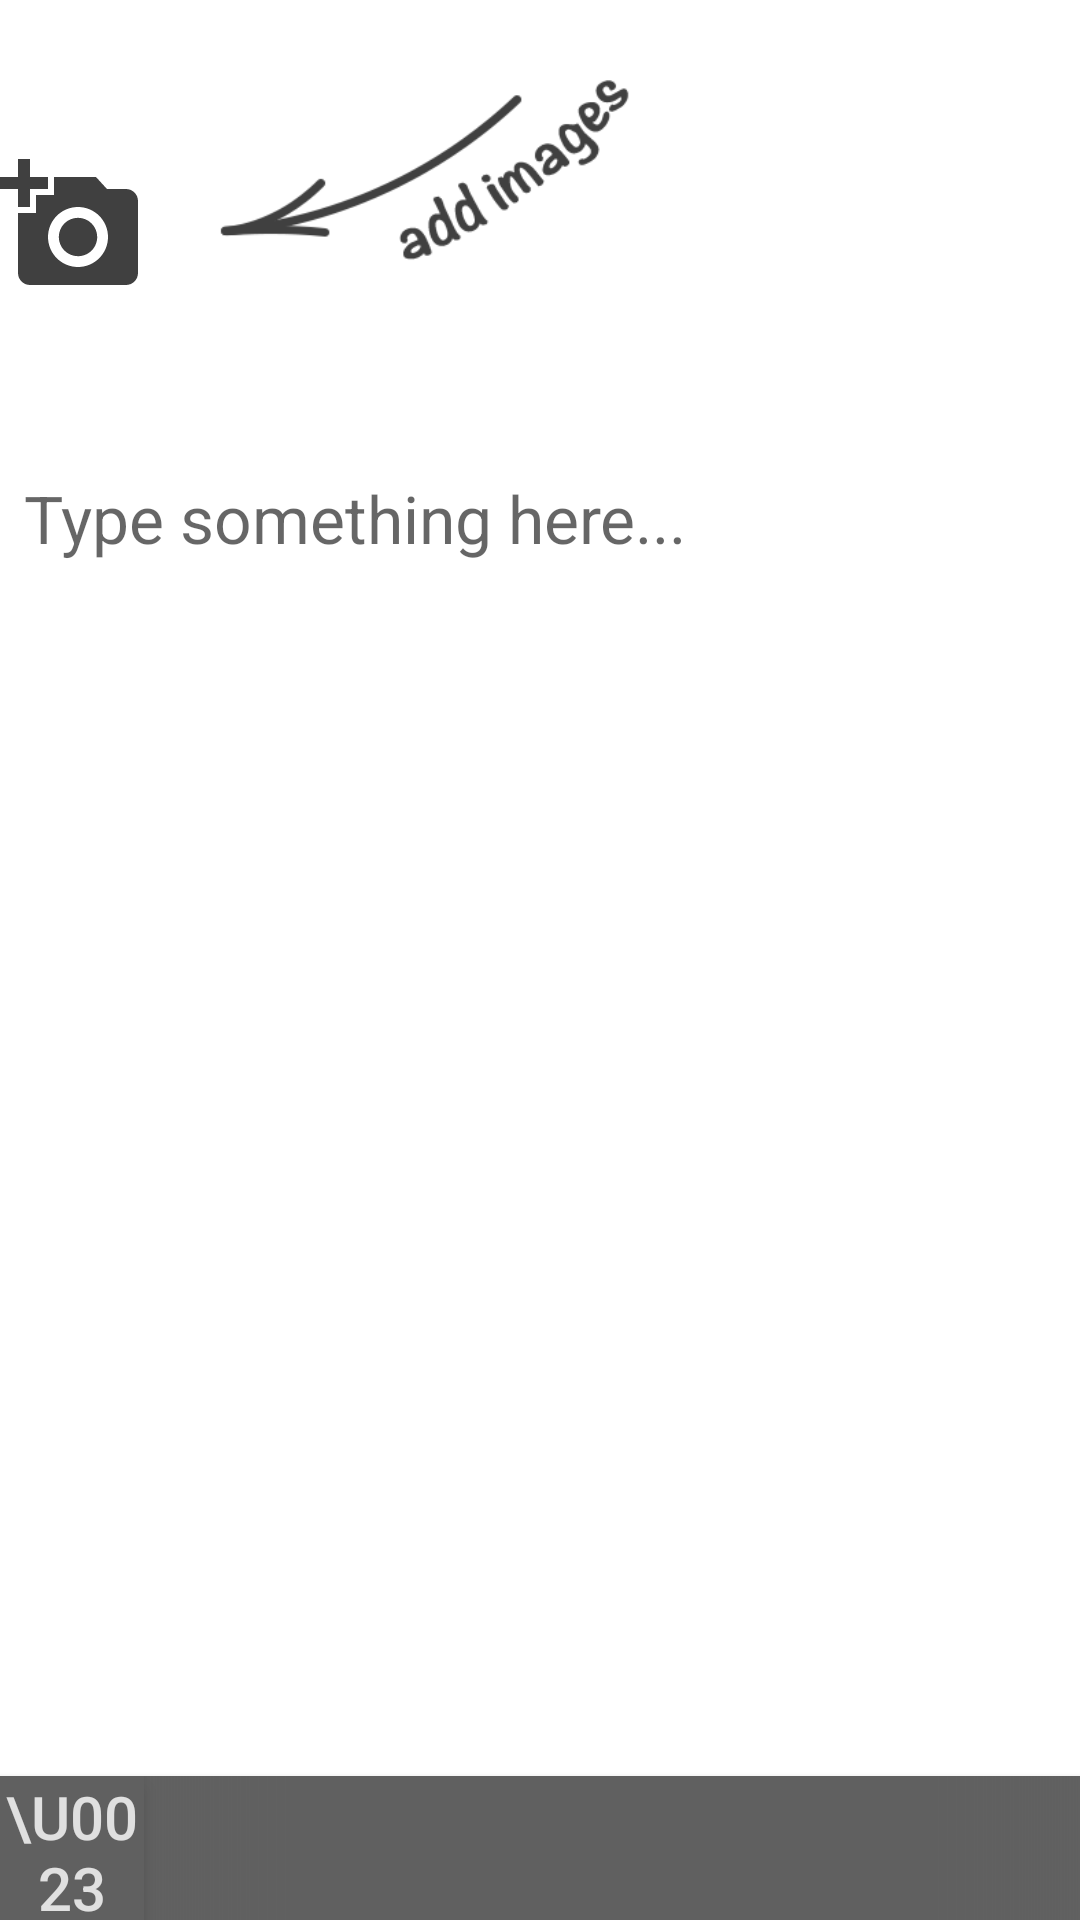

Icons on this 1080 x 1920 Android screen, each with its box as (x1, y1, x2, y2):
add photo: (0, 159, 138, 285)
